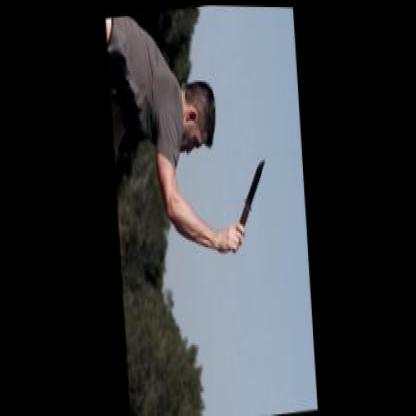knife: (221, 148, 274, 256)
